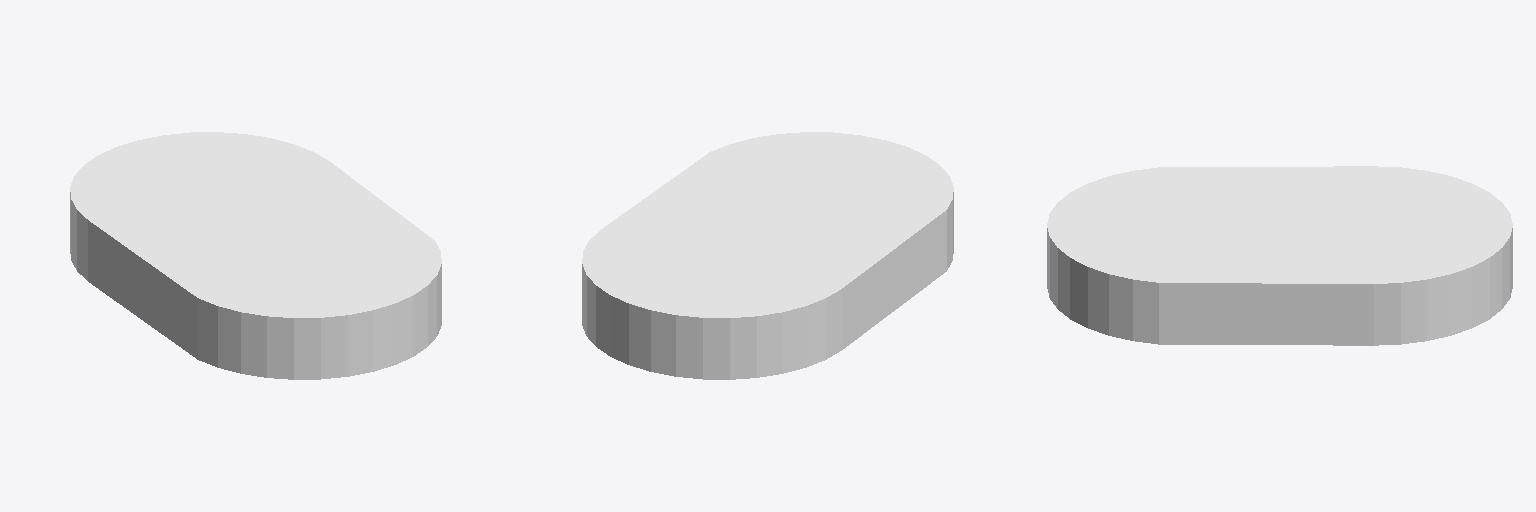
File: table1.obj
The picture shows the model from 3 angles: view 1: azimuth 30°, elevation 25°; view 2: azimuth 150°, elevation 25°; view 3: azimuth 270°, elevation 25°; orthographic projection.
Parts seen in each view (by area): view 1: 柱体; view 2: 柱体; view 3: 柱体.
Boxes of the visible parts, x1,y1,x2,y2 form: 柱体: [70, 132, 441, 379]; 柱体: [582, 132, 953, 379]; 柱体: [1047, 166, 1512, 345].
Size of the model in its own units: 1.01 by 0.2458 by 1.69.